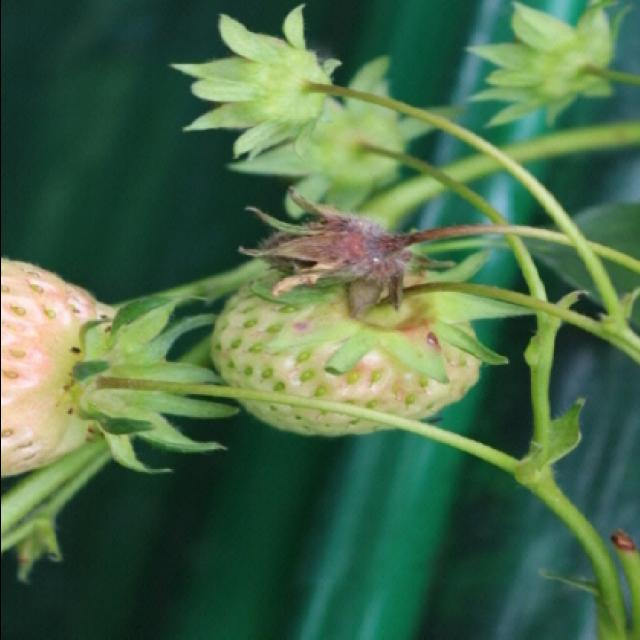Gray Mold: (236, 183, 464, 321)
